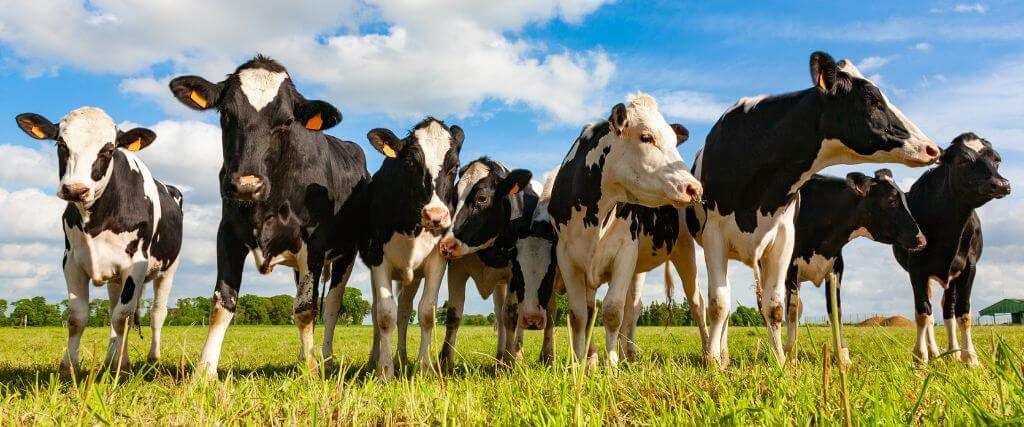cow: (159, 52, 365, 427), (692, 65, 919, 378), (525, 95, 719, 395), (9, 106, 192, 386)
